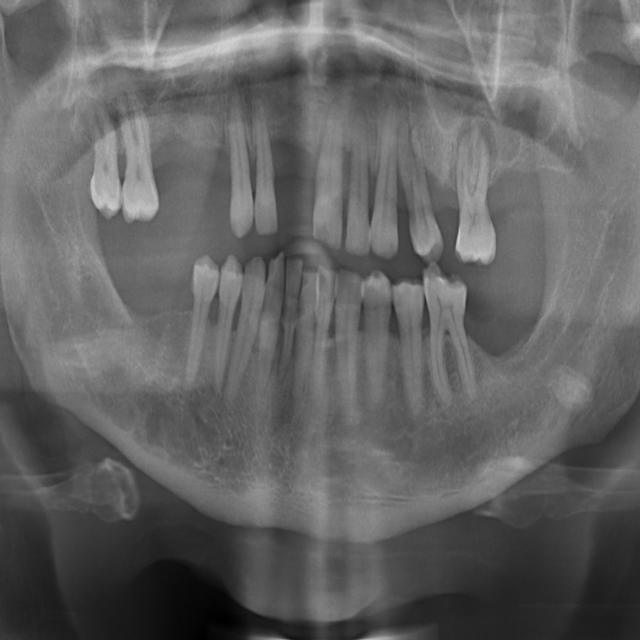3M ESPE Implant: (93, 103, 93, 104)
AGS Medikal Implant: (345, 106, 373, 257)
AMerOss Implant: (369, 98, 402, 260)
Anthogyr Implant: (381, 102, 450, 269)
BioHorizons Implant: (454, 125, 499, 267)
Camlog Implant: (422, 262, 478, 410)
Caries: (115, 86, 161, 224)
Composite filling: (389, 275, 441, 414)
Cowellmedi Implant: (361, 267, 396, 400)
Crown: (329, 266, 363, 410)
DENTSPLY Implant: (309, 260, 340, 404)
Dentatus Implant: (288, 261, 322, 408)
Dentis Implant: (277, 256, 303, 381)
Dentium Implant: (250, 247, 290, 394)
Euroteknika Implant: (223, 252, 270, 405)
Filling: (206, 252, 245, 392)
Frontier Implant: (184, 252, 220, 388)
Maxilla: (228, 78, 253, 238)
Megagen Implant: (250, 91, 278, 237)
Neoss Implant: (312, 101, 345, 250)
